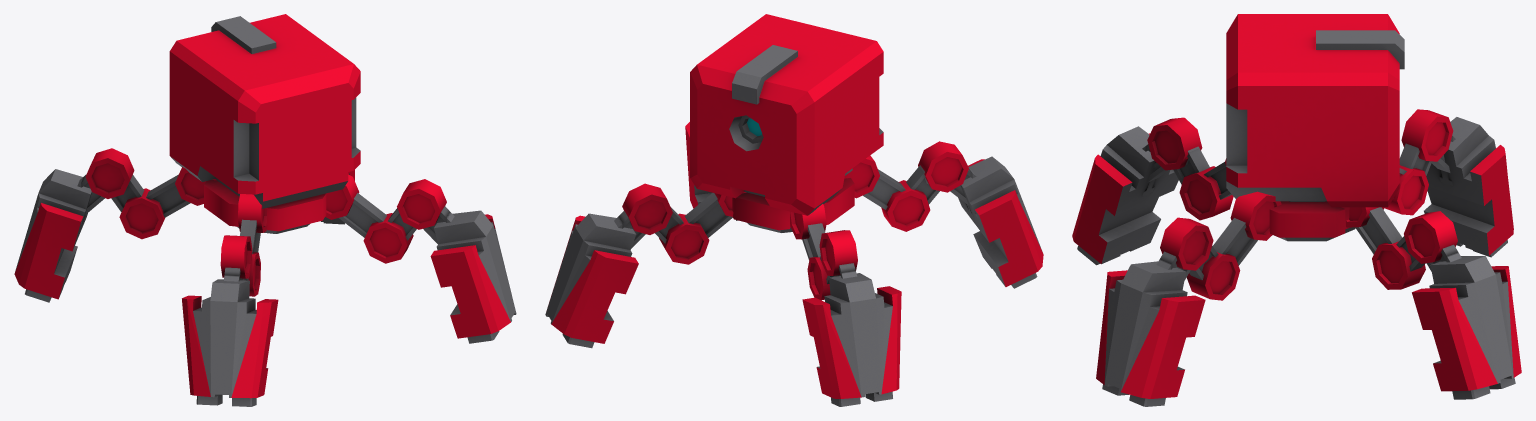
Rendered from Monster1_Idle15.obj.
The picture shows the model from 3 angles, left to right: view 1: azimuth 30°, elevation 25°; view 2: azimuth 150°, elevation 25°; view 3: azimuth 270°, elevation 25°; orthographic projection. The views are drawn at different scales.
Visible parts, largest first — view 1: Box006, Object021, Object017, Object025, Object020, Object028, Object027, Object018, Object019, Object026, Object024, Object022 (+1 smaller); view 2: Box006, Object025, Object013, Object021, Object016, Object023, Object024, Object015, Object022, Object028, Object014, Object026 (+2 smaller); view 3: Box006, Object017, Object013, Object021, Object025, Object018, Object016, Object023, Object020, Object024, Object028, Object015 (+4 smaller).
Boxes of the visible parts, x1,y1,x2,y2 form: Box006: (169, 14, 360, 233); Object021: (182, 279, 278, 406); Object017: (430, 210, 516, 343); Object025: (14, 169, 91, 302); Object020: (397, 179, 454, 243); Object028: (77, 148, 134, 214); Object027: (111, 174, 164, 239); Object018: (325, 174, 386, 237); Object019: (363, 208, 416, 263); Object026: (146, 167, 216, 217); Object024: (220, 235, 252, 281); Object022: (238, 194, 267, 253); Box006: (690, 14, 883, 232); Object025: (802, 273, 901, 406); Object013: (545, 213, 638, 348); Object021: (958, 156, 1043, 288); Object016: (614, 183, 672, 248); Object023: (881, 165, 939, 231); Object024: (918, 141, 976, 205); Object015: (655, 207, 709, 264); Object022: (844, 155, 905, 209); Object028: (819, 230, 857, 278); Object014: (684, 192, 746, 237); Object026: (790, 204, 826, 260); Box006: (1226, 14, 1404, 241); Object017: (1096, 261, 1205, 406); Object013: (1412, 256, 1521, 399); Object021: (1072, 126, 1178, 265); Object025: (1424, 117, 1513, 257); Object018: (1212, 191, 1281, 265); Object016: (1404, 211, 1461, 271); Object023: (1173, 146, 1233, 220); Object020: (1156, 217, 1213, 280); Object024: (1142, 117, 1202, 182); Object028: (1401, 109, 1455, 172); Object015: (1372, 236, 1425, 289).
Size of the model in its own units: 150 by 108 by 153.
